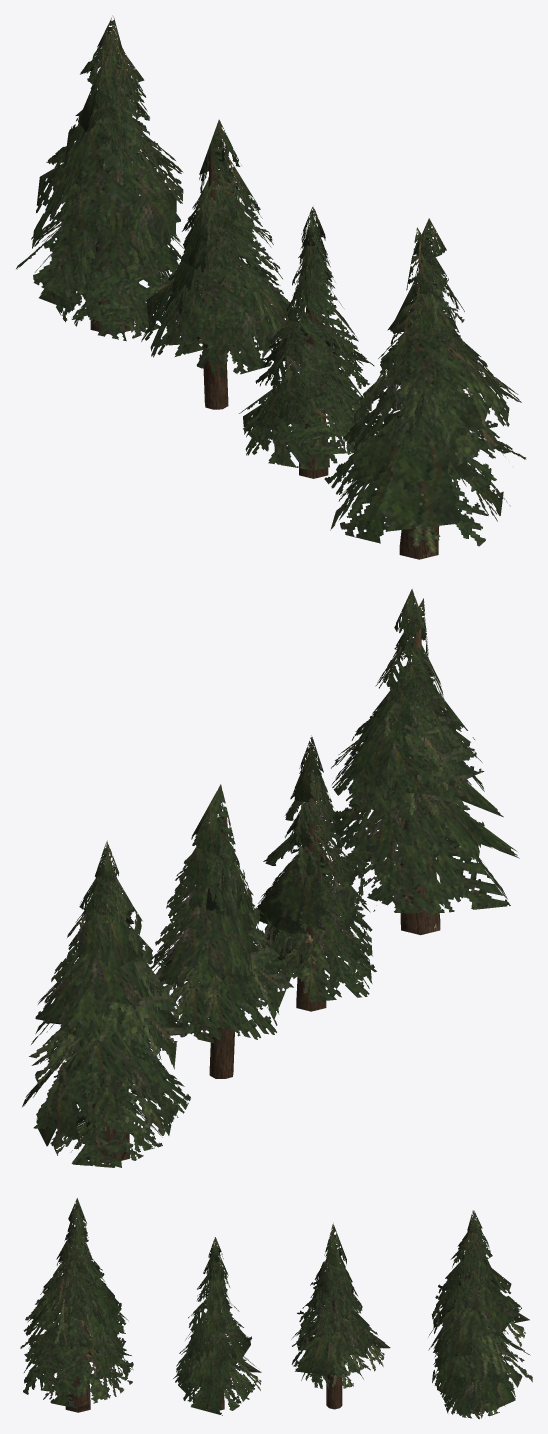
Rendered from tree_set.fbx.
3 renders of one model, top to bottom at view 1: azimuth 30°, elevation 25°; view 2: azimuth 150°, elevation 25°; view 3: azimuth 270°, elevation 25°, orthographic. The views are drawn at different scales.
Parts seen in each view (by area): view 1: wood_1, wood_4, wood_3, wood_2; view 2: wood_1, wood_4, wood_3, wood_2; view 3: wood_1, wood_4, wood_3, wood_2.
Boxes of the visible parts, bbox=[...] form: wood_1: bbox=[324, 218, 526, 559]; wood_4: bbox=[16, 15, 183, 341]; wood_3: bbox=[141, 119, 292, 409]; wood_2: bbox=[239, 207, 374, 478]; wood_1: bbox=[320, 589, 519, 935]; wood_4: bbox=[22, 840, 195, 1167]; wood_3: bbox=[150, 784, 297, 1078]; wood_2: bbox=[254, 735, 376, 1011]; wood_1: bbox=[20, 1198, 133, 1412]; wood_4: bbox=[428, 1210, 532, 1419]; wood_3: bbox=[291, 1223, 390, 1409]; wood_2: bbox=[173, 1237, 261, 1415].
Bounding box in the file's own units: 633 × 1081 × 2402.
